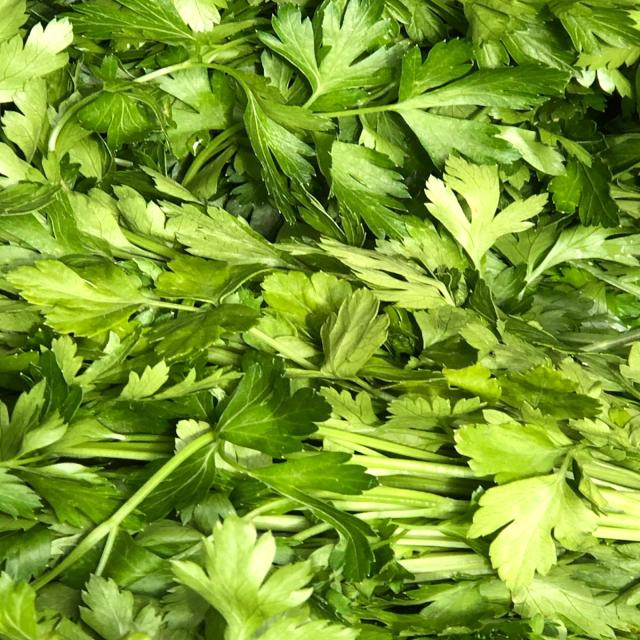parsley: (5, 4, 640, 640)
